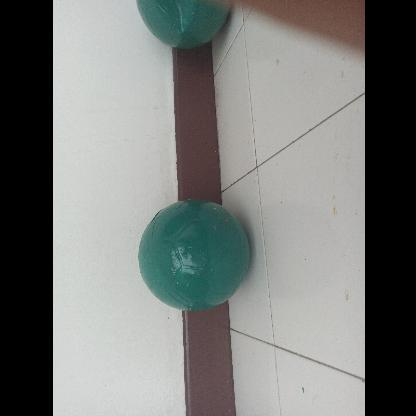green_ball: (134, 194, 250, 310)
